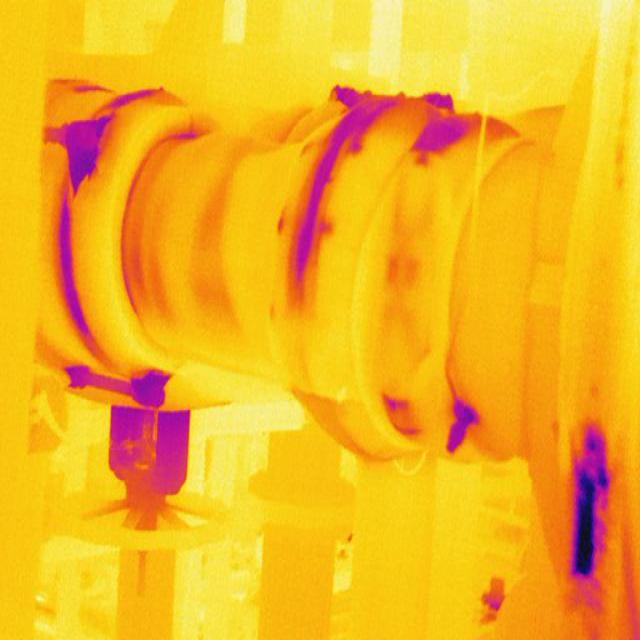leakage: (276, 86, 374, 312), (564, 408, 621, 588), (59, 357, 178, 407), (40, 114, 107, 196), (195, 189, 236, 311), (55, 209, 91, 346), (124, 220, 172, 318), (440, 394, 484, 457), (407, 112, 462, 162), (378, 386, 427, 438), (384, 244, 426, 296)
